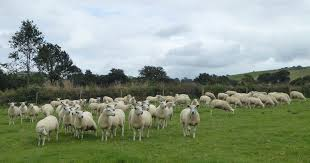sheep: (33, 115, 62, 150), (129, 104, 152, 141), (98, 108, 125, 138), (180, 104, 201, 139), (73, 110, 97, 139), (209, 99, 236, 118), (5, 100, 20, 128), (154, 100, 167, 129), (244, 96, 265, 112), (269, 92, 290, 105), (289, 90, 307, 102), (18, 99, 28, 120), (41, 102, 54, 118), (29, 101, 40, 119), (199, 95, 211, 106), (190, 98, 200, 108)
